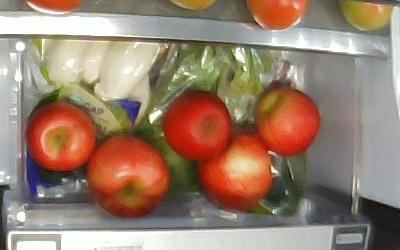apple: (87, 134, 170, 217), (196, 128, 272, 212), (164, 89, 232, 162), (25, 102, 96, 171), (255, 86, 320, 157)
